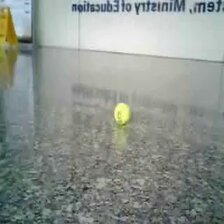tennis: (113, 102, 132, 125)
